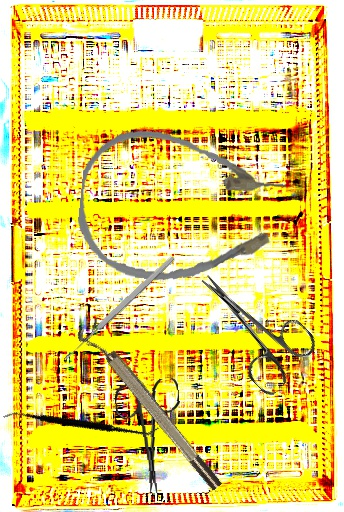Cannula: (72, 124, 291, 293)
Fixation Ring: (74, 317, 226, 499)
Iris Scissors: (176, 252, 324, 399), (113, 377, 188, 497)
Spatula Surgical: (2, 357, 160, 488)
Surgical Spoon: (62, 254, 177, 362)
